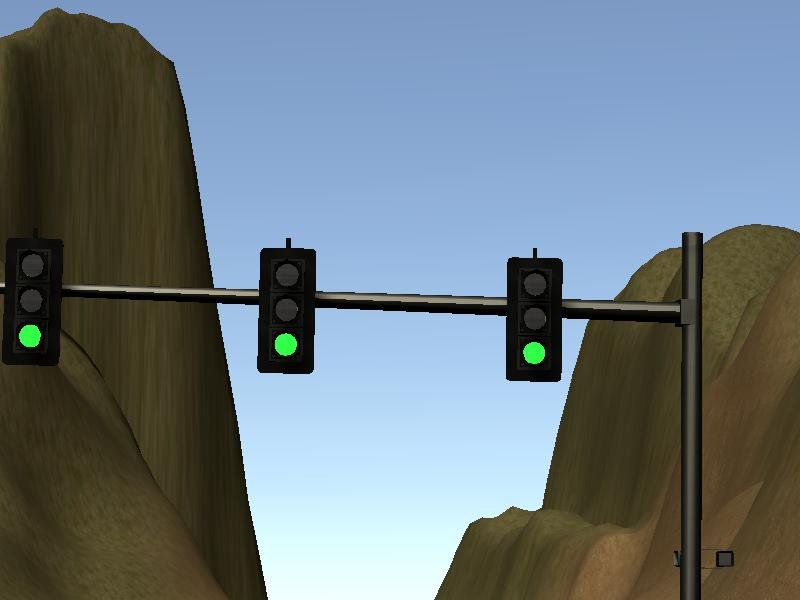green: (4, 236, 63, 365), (257, 247, 316, 376), (505, 256, 564, 385)
